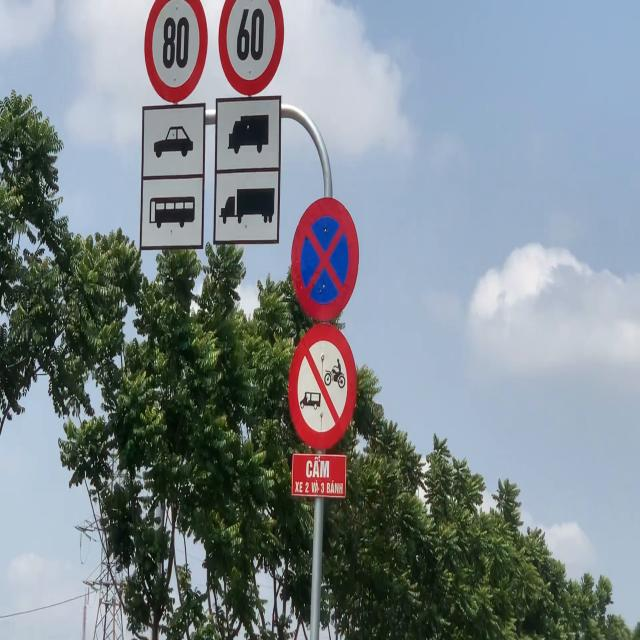Cam con lai: (287, 326, 358, 452)
Cam dung va do: (290, 195, 360, 325)
Toc do toi da: (144, 0, 207, 104), (218, 0, 284, 96)
